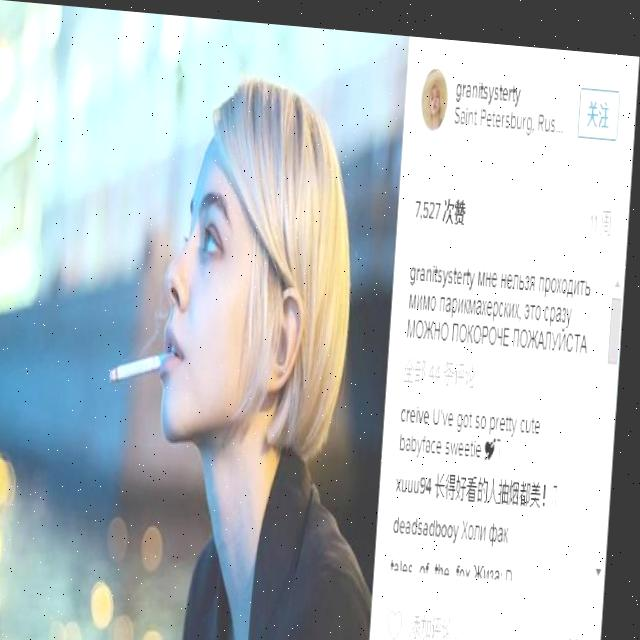cigarette: (116, 342, 181, 387)
